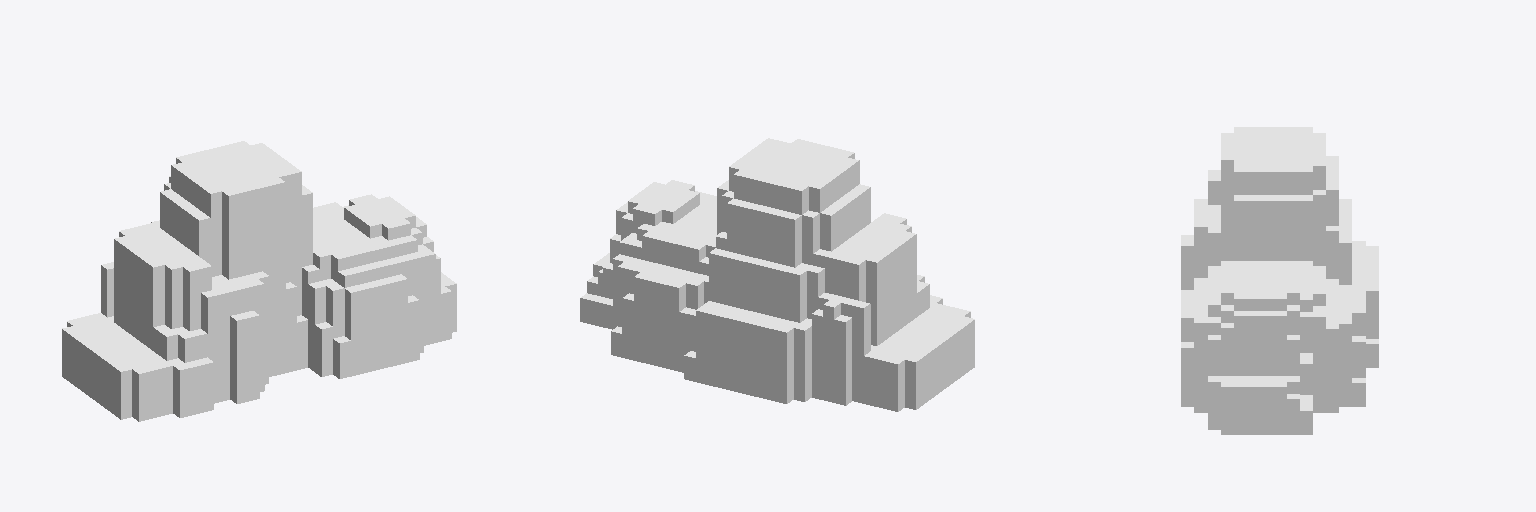
The model's file is env_rocks1.obj.
3 views of the same model, side by side, from view 1: azimuth 30°, elevation 25°; view 2: azimuth 150°, elevation 25°; view 3: azimuth 270°, elevation 25° (orthographic).
Parts seen in each view (by area): view 1: object 1; view 2: object 1; view 3: object 1.
Part boxes in pixels (x1,y1,x2,y2): object 1: (62,141,456,421); object 1: (580,138,974,411); object 1: (1181,127,1378,434).
Size of the model in its own units: 3 by 1.6 by 1.5.